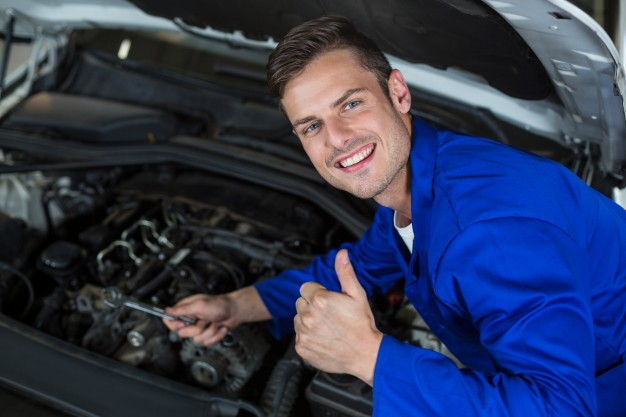thumbsup: (292, 249, 357, 373)
